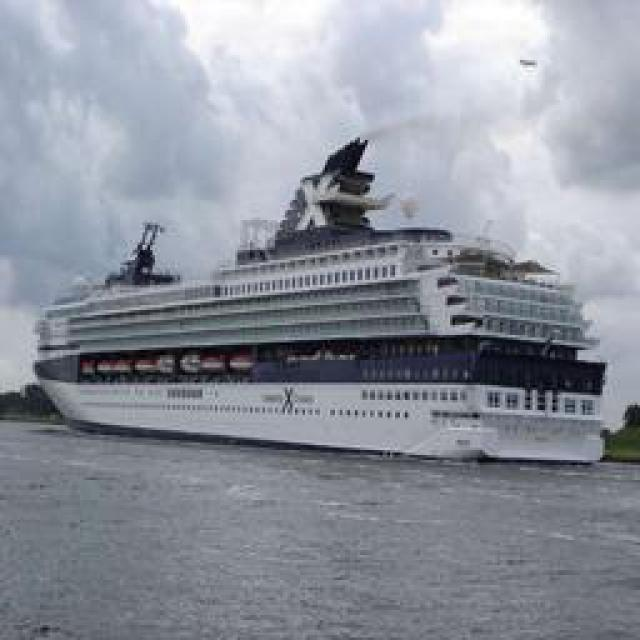Ship: (34, 151, 614, 459)
